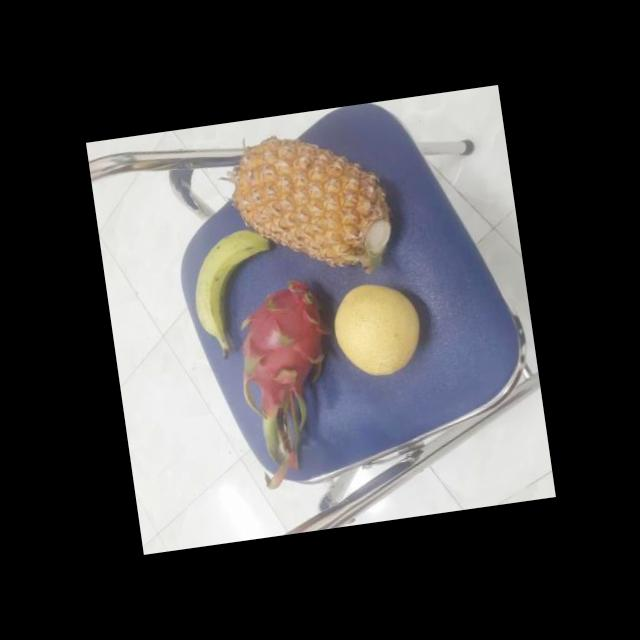banana: (185, 223, 282, 349)
pear: (330, 274, 428, 382)
pineapple: (226, 123, 398, 286)
pitaya: (228, 272, 342, 415)
